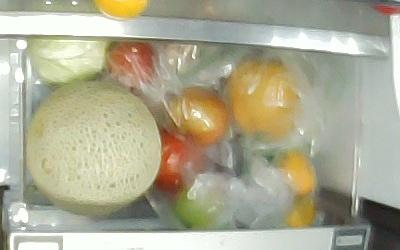cabbage: (29, 38, 112, 82)
melon: (28, 80, 161, 213)
pear_vinyl: (224, 61, 308, 143)
prune_vinyl: (165, 86, 229, 141)
tangerine_vinyl: (278, 152, 318, 195), (285, 196, 316, 227)
tomato_vinyl: (177, 172, 235, 227), (156, 128, 204, 192), (108, 41, 154, 85)
